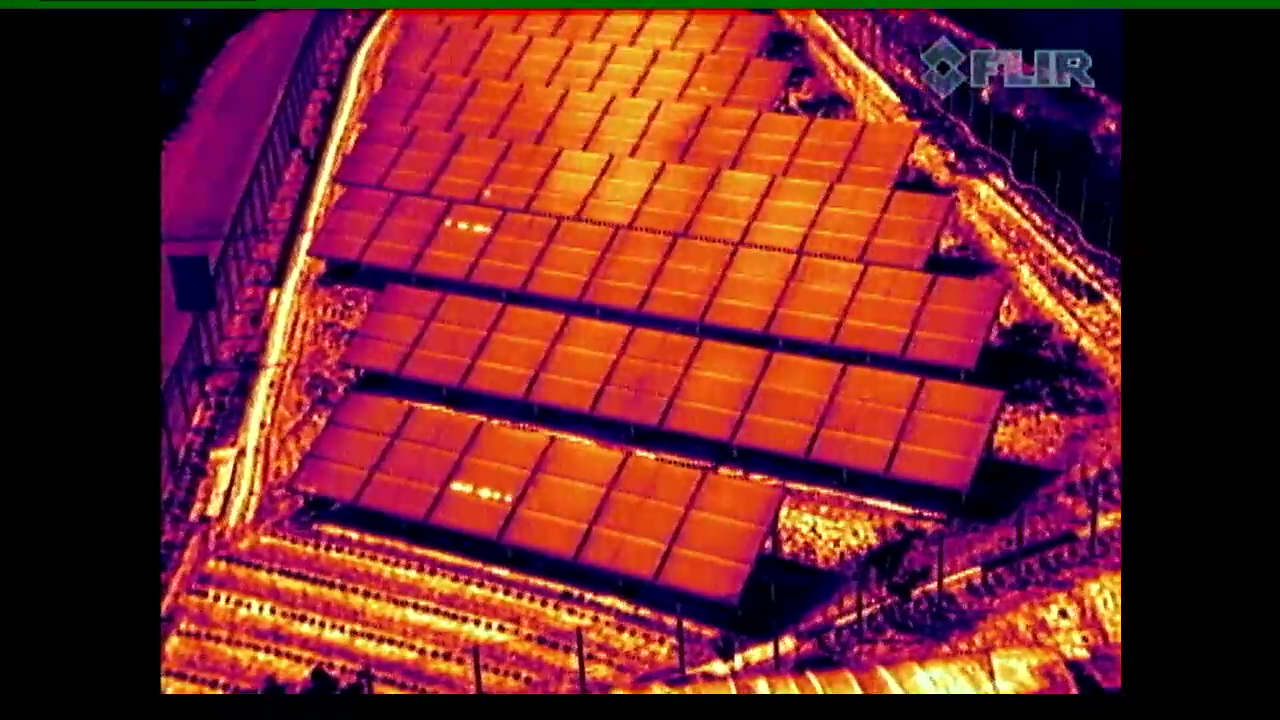hotspot: (421, 423, 547, 540), (410, 201, 504, 287), (478, 143, 560, 211)
